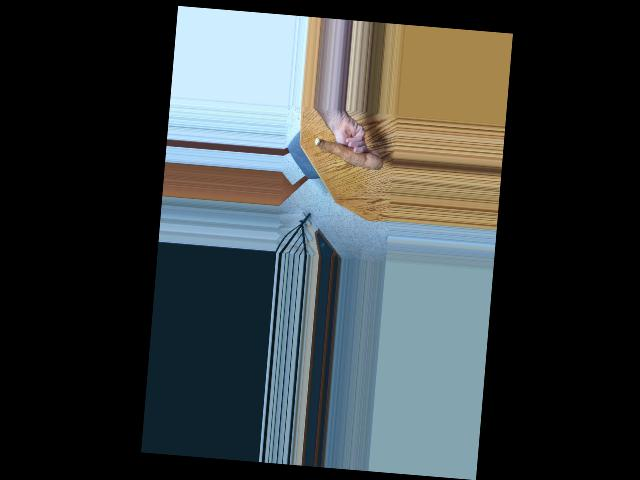sweet_potato: (312, 135, 385, 171)
